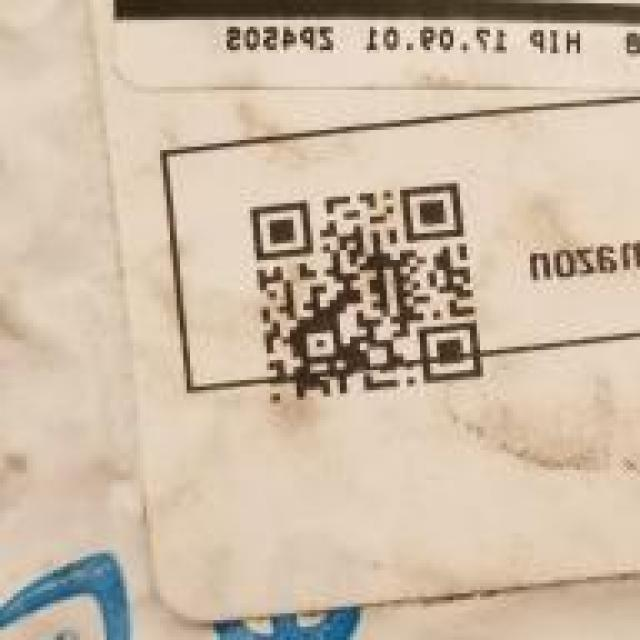QR_CODE: (242, 153, 500, 415)
